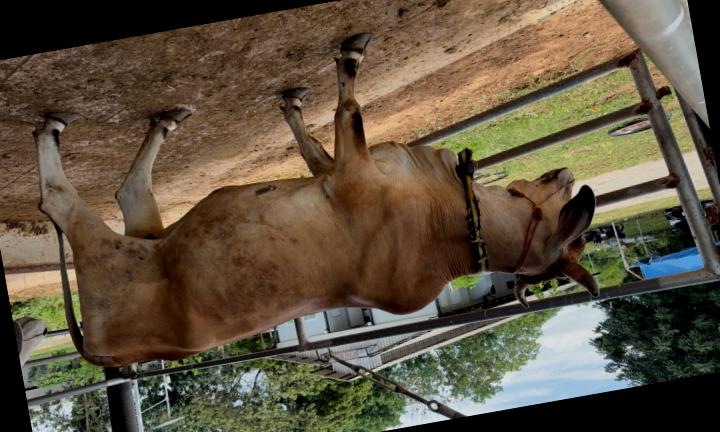Brahman: (34, 35, 599, 367)
